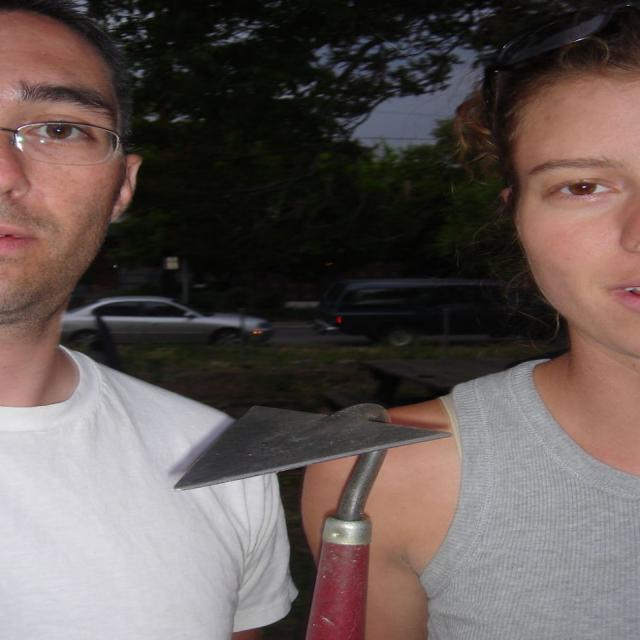Glasses: (0, 99, 145, 163)
